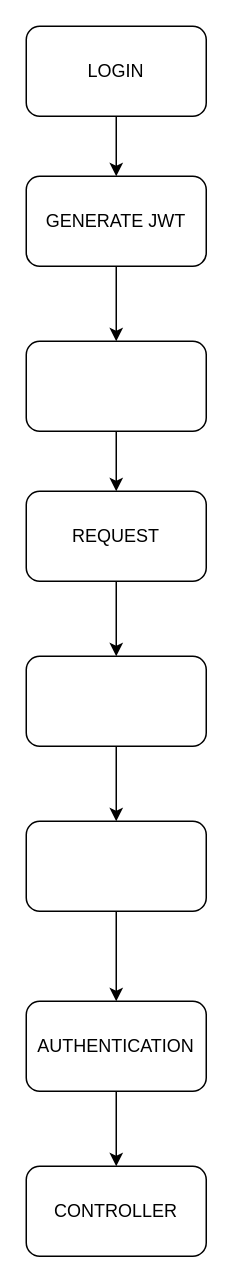
This 233x1283 diagram has some shape labels left out. Each missing label, with the centre of its shape:
"AUTHORIZATION HEADER" goes at point 115,700.
"CLIENT STORES JWT" goes at point 115,385.
"JWT FILTER" goes at point 115,865.
